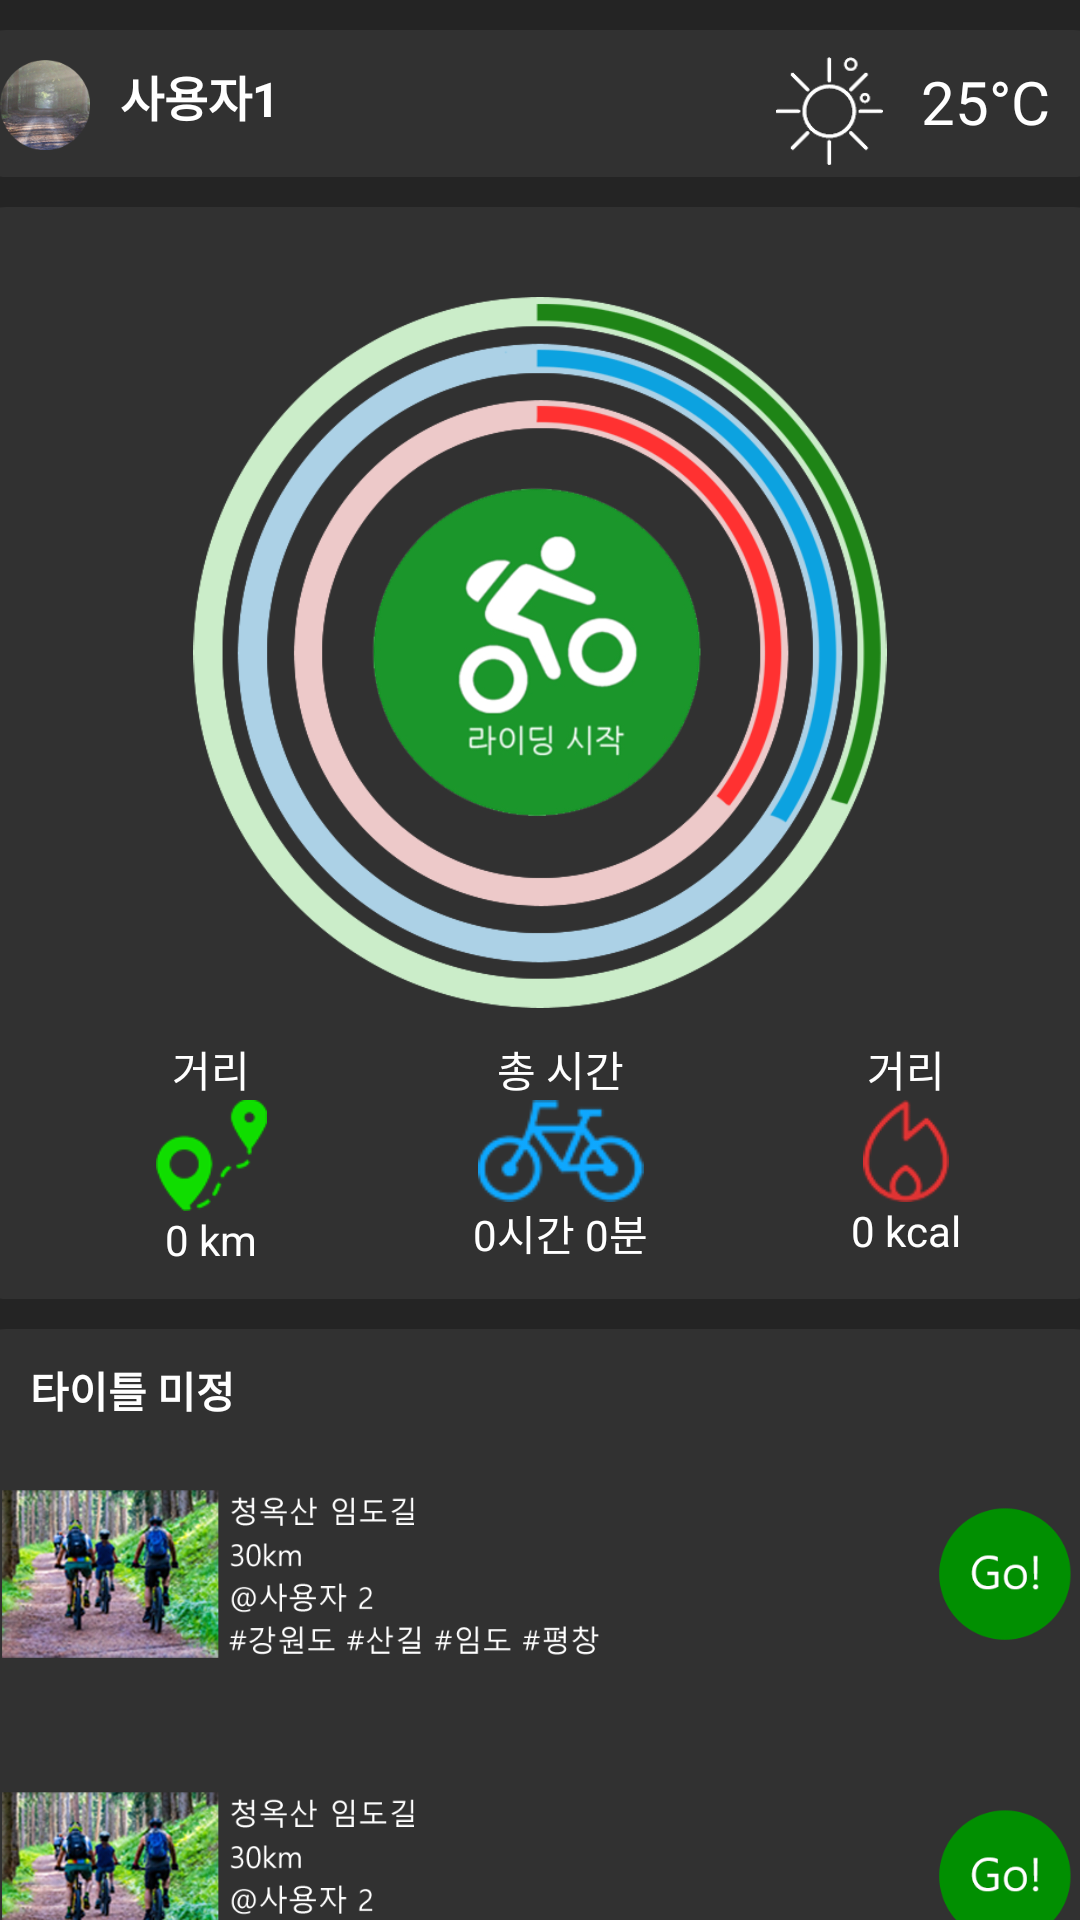

Where icons sit on this 1080x1920 app screen, as [x1, y1, x2, y2]:
sun: [776, 57, 883, 165]
user: [0, 60, 90, 150]
